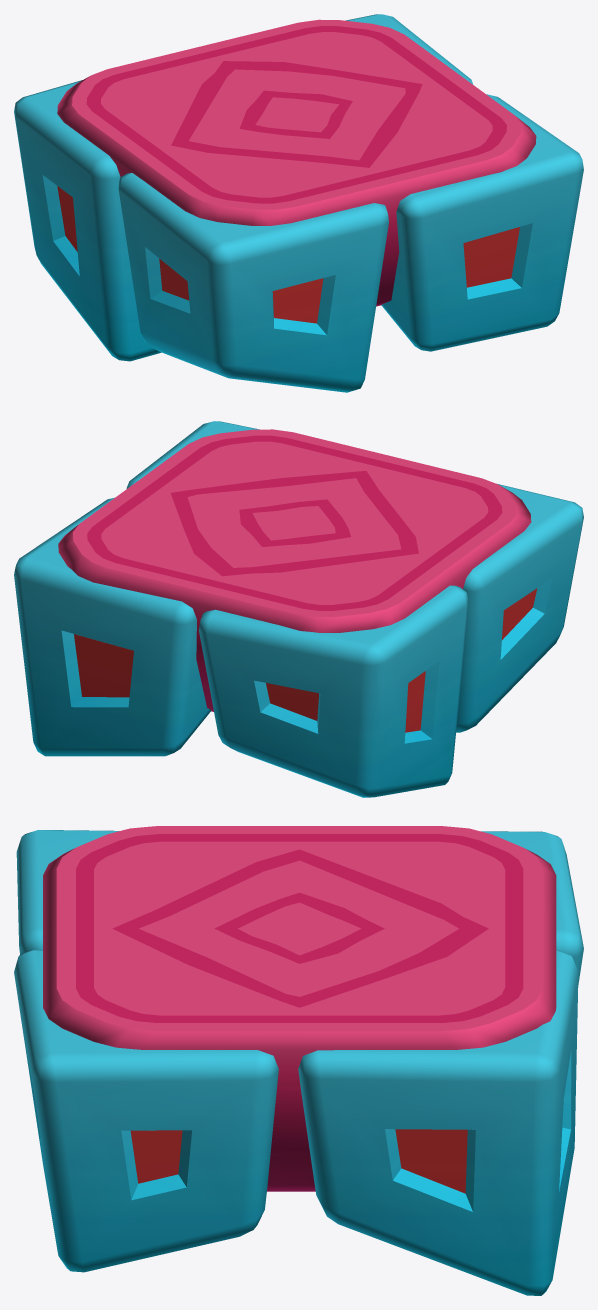
File: FloatPlate_01.glb
3 renders of one model, top to bottom at view 1: azimuth 30°, elevation 25°; view 2: azimuth 150°, elevation 25°; view 3: azimuth 270°, elevation 25°, orthographic. The views are drawn at different scales.
Parts seen in each view (by area): view 1: FloatPlate_01; view 2: FloatPlate_01; view 3: FloatPlate_01.
Part boxes in pixels (box(x1,y1,x2,y2)): FloatPlate_01: box(14, 14, 583, 392); FloatPlate_01: box(14, 421, 583, 797); FloatPlate_01: box(14, 826, 583, 1295).
Size of the model in its own units: 3.98 by 2.27 by 3.99.
Materials: 1 (1 with a texture image).
